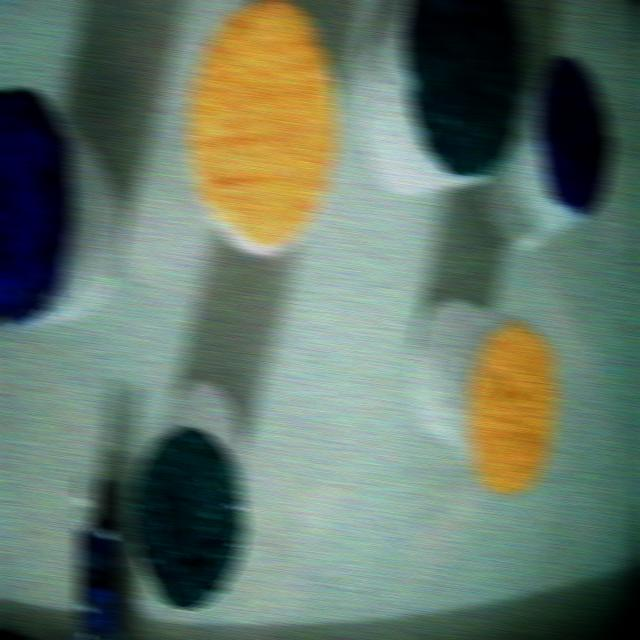blue: (0, 89, 77, 324), (535, 57, 612, 218)
green: (402, 0, 525, 176), (130, 428, 245, 609)
yellow: (187, 0, 338, 254), (466, 322, 557, 493)
